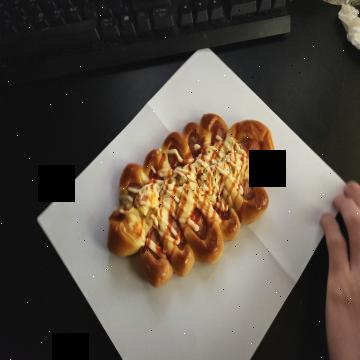pizza_bread: (106, 114, 275, 289)
